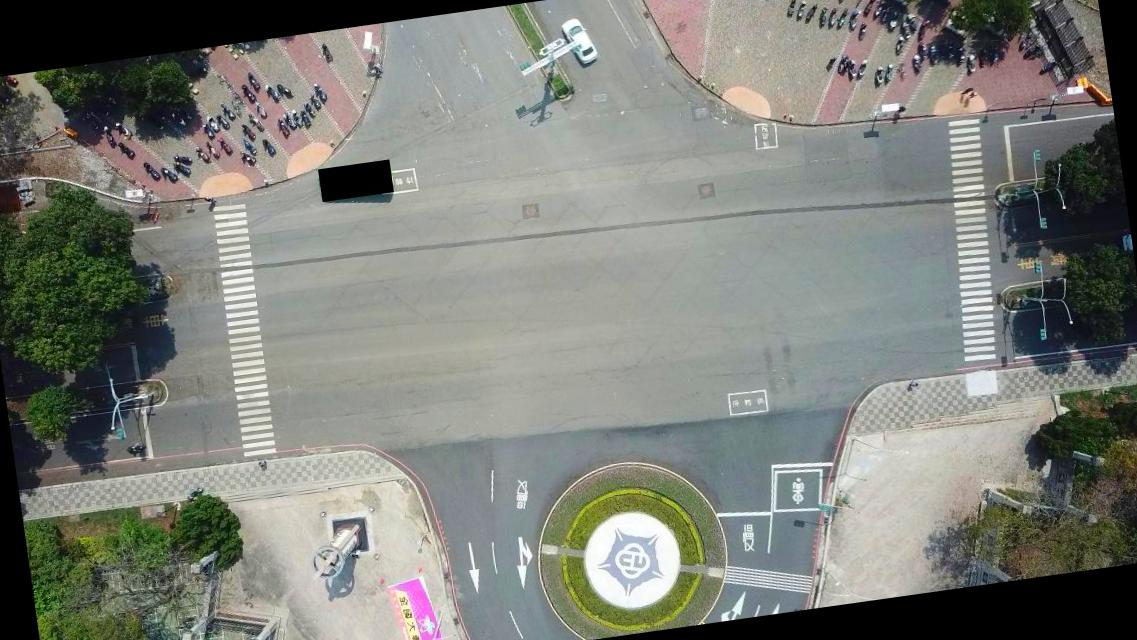vehicle: (560, 16, 597, 66)
